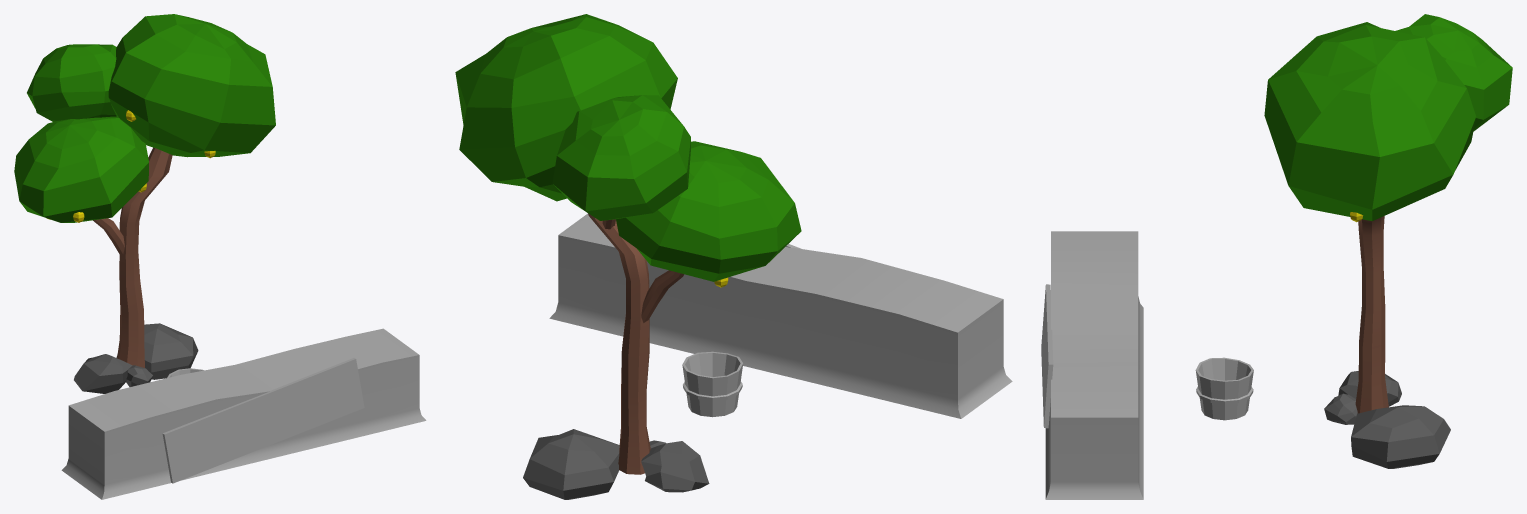
File: LemonadeStand.fbx
The picture shows the model from 3 angles, left to right: view 1: azimuth 30°, elevation 25°; view 2: azimuth 150°, elevation 25°; view 3: azimuth 270°, elevation 25°; orthographic projection. The views are drawn at different scales.
Parts seen in each view (by area): view 1: pCube1, pSphere2, pSphere1, pCube2, pSphere3, TreeeBase, Rock01, Rock02, TreeeBase1; view 2: pCube1, pSphere2, pSphere1, pSphere3, TreeeBase, Rock01, Bucket, Rock02, TreeeBase1; view 3: pSphere2, pCube1, pSphere3, Rock01, TreeeBase, Bucket, pCube2, Rock03, Rock02.
Boxes of the visible parts, x1=… form: pCube1: x1=61, y1=328, x2=426, y2=499; pSphere2: x1=108, y1=14, x2=275, y2=157; pSphere1: x1=14, y1=116, x2=148, y2=222; pCube2: x1=162, y1=358, x2=364, y2=483; pSphere3: x1=27, y1=44, x2=116, y2=121; TreeeBase: x1=117, y1=147, x2=172, y2=367; Rock01: x1=116, y1=323, x2=198, y2=379; Rock02: x1=74, y1=354, x2=132, y2=393; TreeeBase1: x1=93, y1=218, x2=124, y2=254; pCube1: x1=549, y1=213, x2=1012, y2=418; pSphere2: x1=455, y1=14, x2=677, y2=201; pSphere1: x1=616, y1=141, x2=801, y2=281; pSphere3: x1=552, y1=95, x2=690, y2=220; TreeeBase: x1=588, y1=213, x2=650, y2=474; Rock01: x1=523, y1=429, x2=619, y2=499; Bucket: x1=682, y1=351, x2=743, y2=417; Rock02: x1=641, y1=441, x2=709, y2=492; TreeeBase1: x1=641, y1=270, x2=683, y2=322; pSphere2: x1=1264, y1=22, x2=1476, y2=221; pCube1: x1=1045, y1=231, x2=1143, y2=499; pSphere3: x1=1396, y1=14, x2=1512, y2=131; Rock01: x1=1351, y1=405, x2=1450, y2=468; TreeeBase: x1=1355, y1=216, x2=1388, y2=413; Bucket: x1=1195, y1=357, x2=1253, y2=420; pCube2: x1=1041, y1=284, x2=1053, y2=428; Rock03: x1=1324, y1=393, x2=1357, y2=424; Rock02: x1=1338, y1=371, x2=1401, y2=406.
Size of the model in its own units: 5.2 by 5.43 by 5.39.
